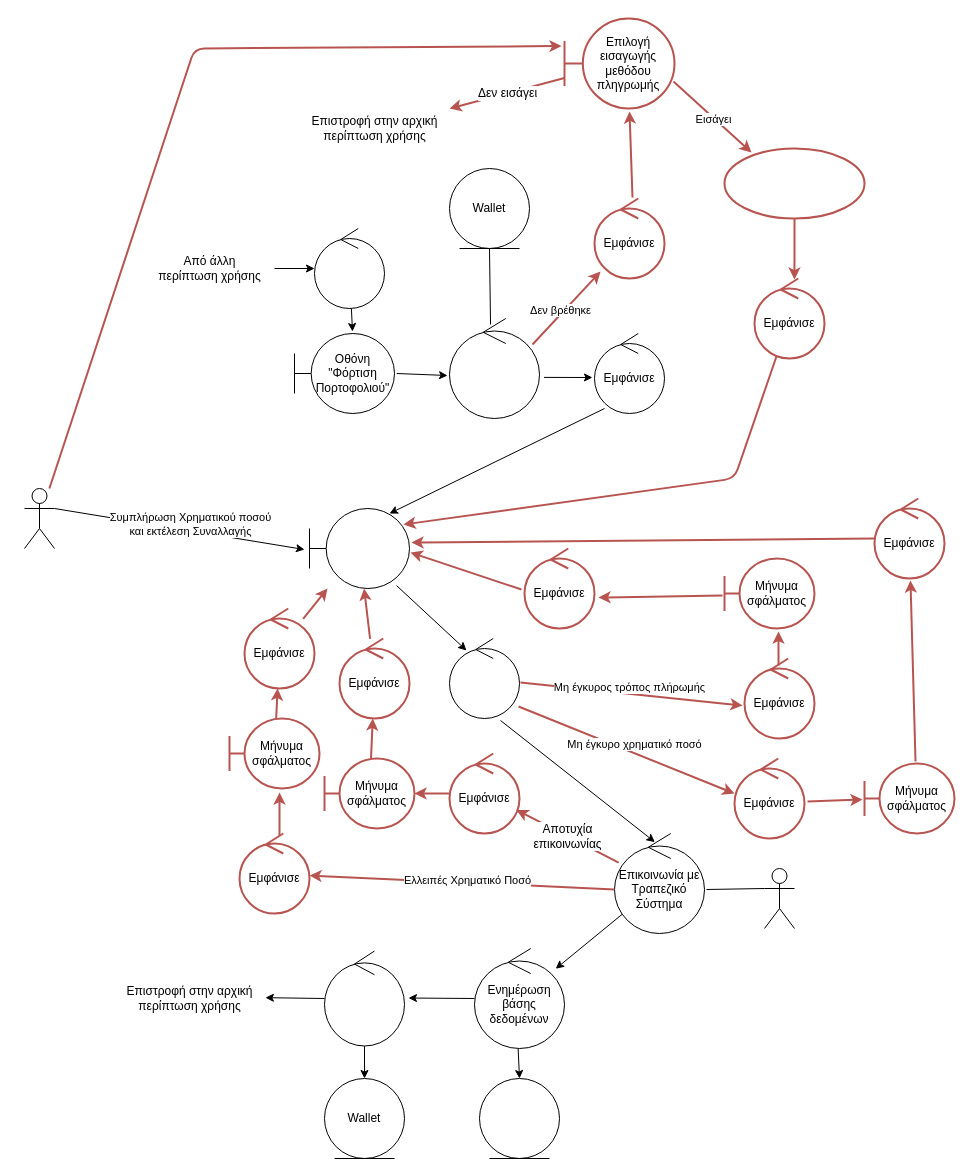
The diagram is 973 pixels wide and 1176 high, and some of its shapes have lost their labels. The centre of each missing label's shape, as x and y in pixels:
Έλεγχος Πεδίων: the point at 484,678
Έλεγχος Υπάρξης Τρόπου Πληρωμής: the point at 494,368
Βάση Δεδομένων: the point at 519,1118
Εμφάνιση: the point at 349,268
Πελάτης: the point at 39,518
Προσθήκη στο πορτοφόλι: the point at 364,998
Προσθήκη Τρόπου Πληρωμής: the point at 794,183
Τράπεζα: the point at 779,898
Φόρμα Πληρωμής: the point at 359,548
